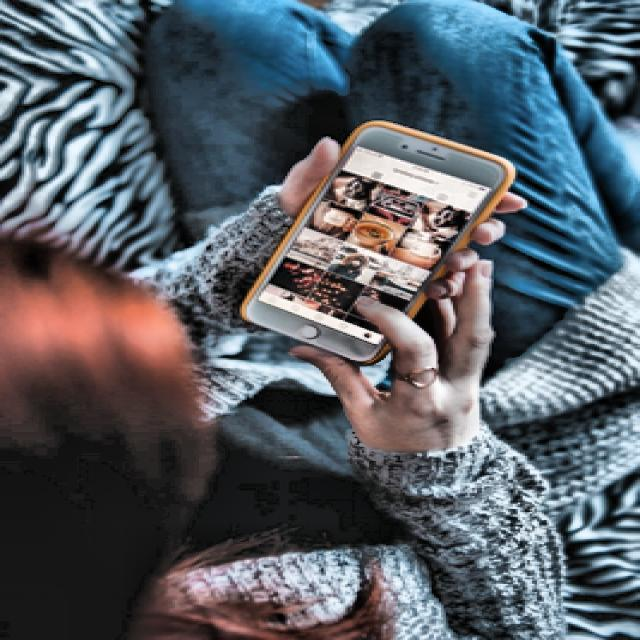Phone: (241, 121, 515, 368)
